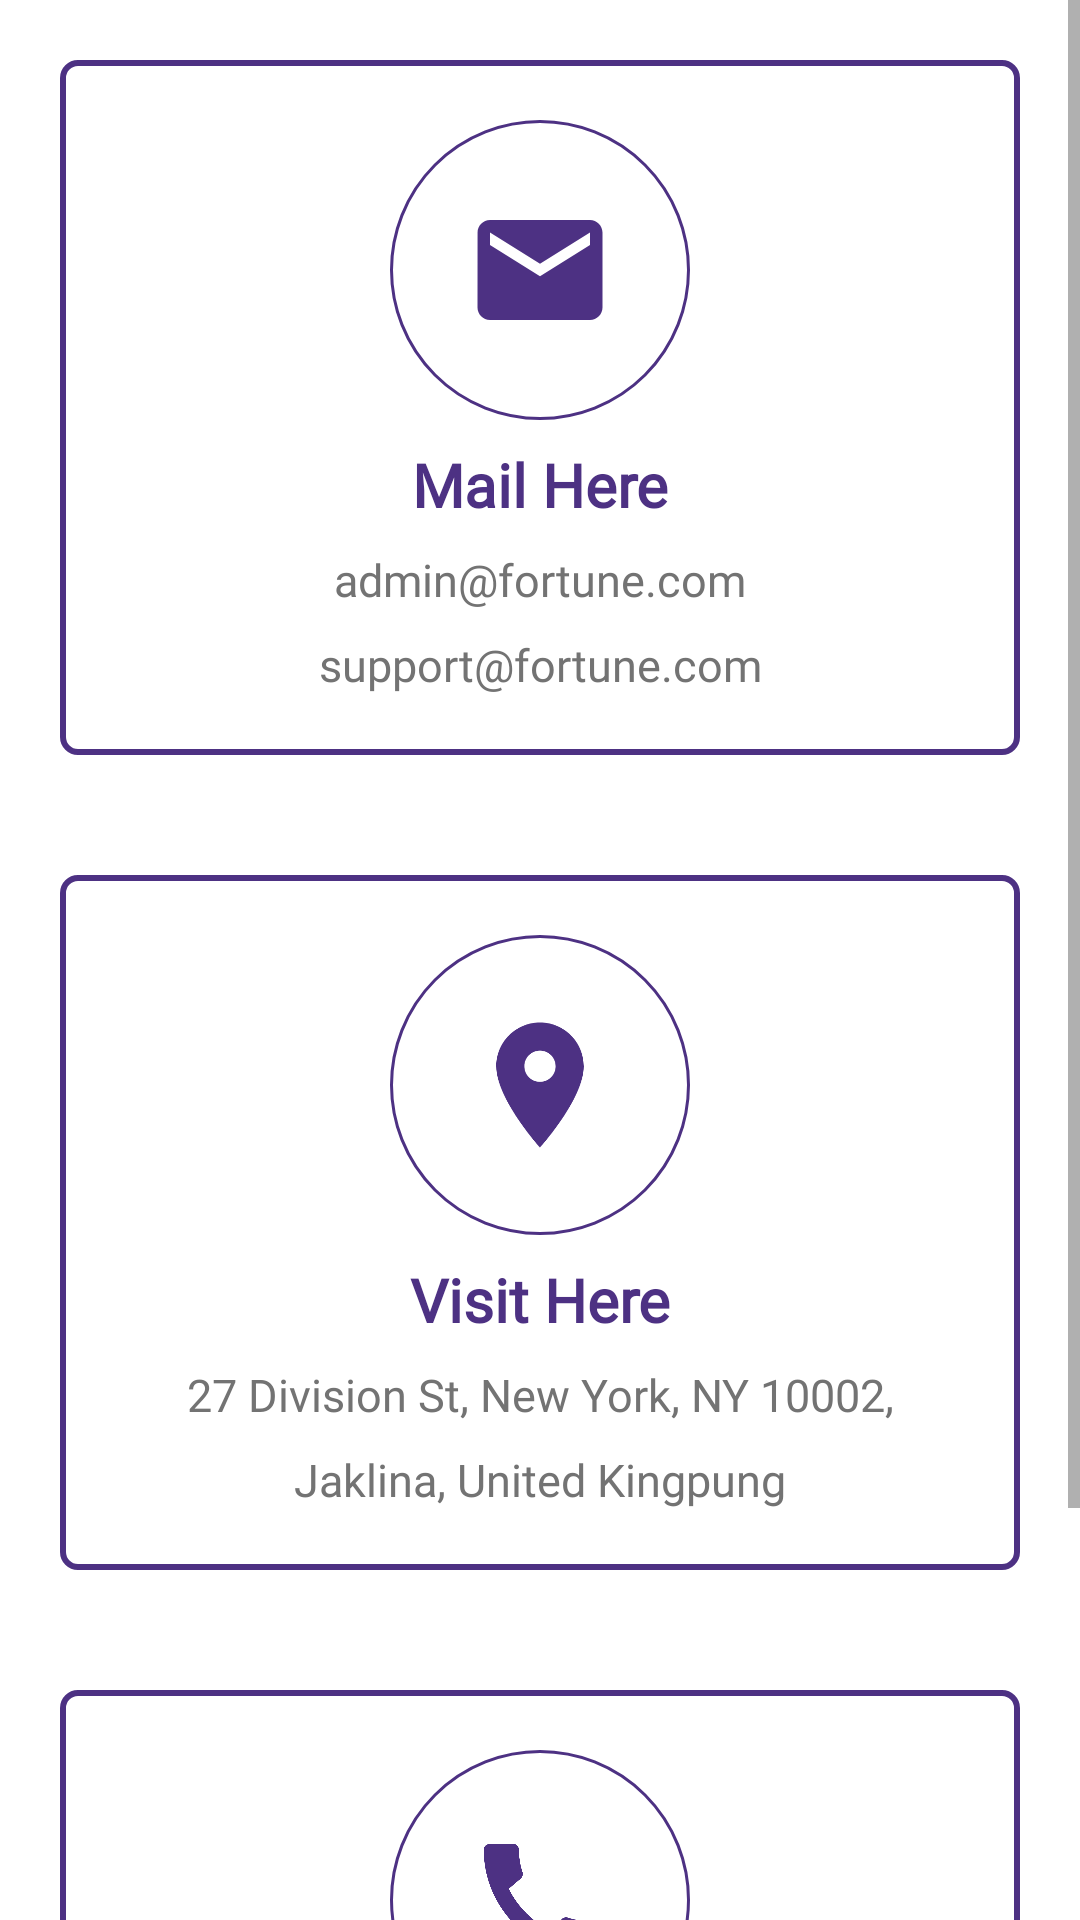

Where to tap for icons on this 1080×1920 app screen, as point (x, y):
location: point (540, 1085)
